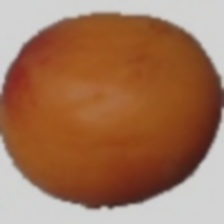apricot: (39, 52, 223, 190)
